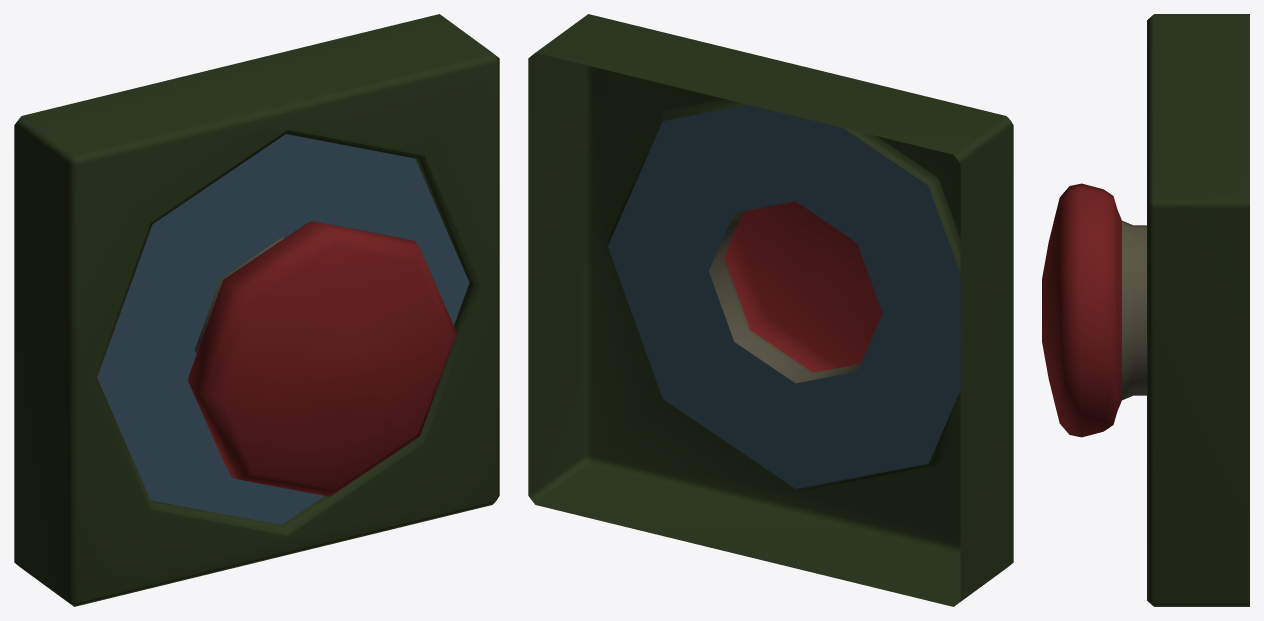
Rendered from SM_BoutonAscenseur.fbx.
3 renders of one model, left to right at view 1: azimuth 30°, elevation 25°; view 2: azimuth 150°, elevation 25°; view 3: azimuth 270°, elevation 25°, orthographic. The views are drawn at different scales.
Parts seen in each view (by area): view 1: Bouton_ascenseur; view 2: Bouton_ascenseur; view 3: Bouton_ascenseur.
Boxes of the visible parts, x1=… form: Bouton_ascenseur: x1=14, y1=14, x2=499, y2=606; Bouton_ascenseur: x1=528, y1=14, x2=1013, y2=606; Bouton_ascenseur: x1=1042, y1=14, x2=1249, y2=606.
Size of the model in its own units: 9.69 by 9.69 by 4.46.
